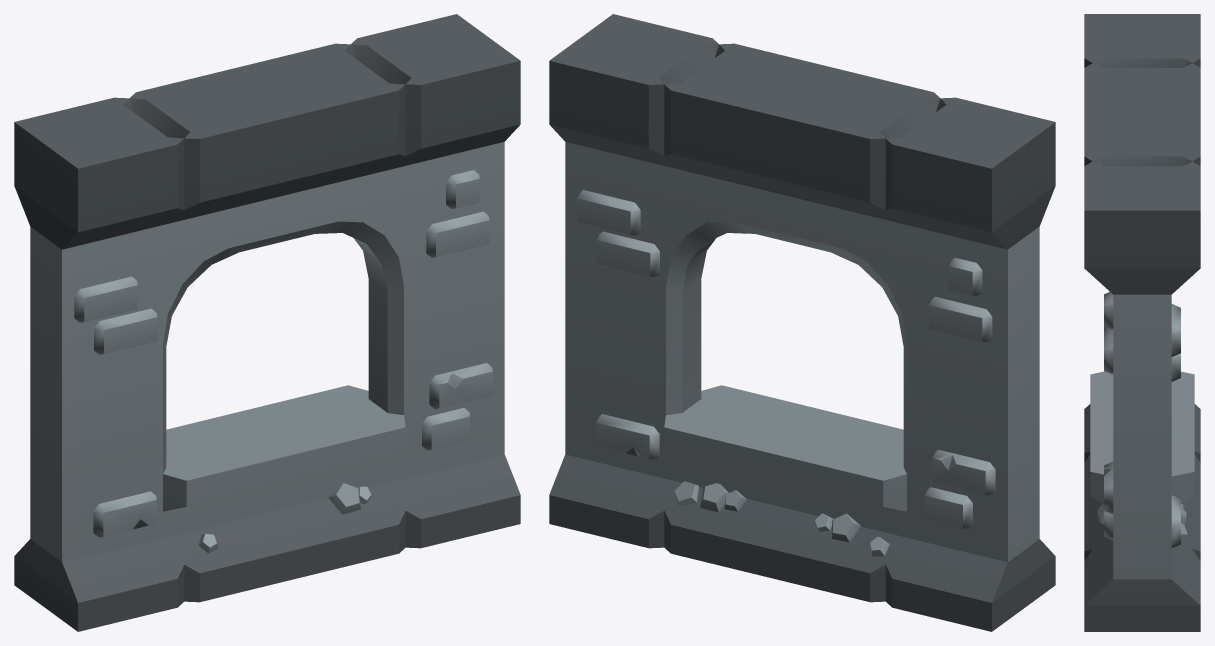
Rendered from wall_archedwindow_open.gltf.
3 views of the same model, side by side, from view 1: azimuth 30°, elevation 25°; view 2: azimuth 150°, elevation 25°; view 3: azimuth 270°, elevation 25° (orthographic). The views are drawn at different scales.
Parts seen in each view (by area): view 1: wall_archedwindow_open; view 2: wall_archedwindow_open; view 3: wall_archedwindow_open.
Boxes of the visible parts, left/top/right/bottom form: wall_archedwindow_open: left=14, top=14, right=520, bottom=631; wall_archedwindow_open: left=549, top=14, right=1055, bottom=631; wall_archedwindow_open: left=1084, top=14, right=1200, bottom=631.
Bounding box in the file's own units: 4 × 4 × 1.
Materials: 1 (1 with a texture image).
